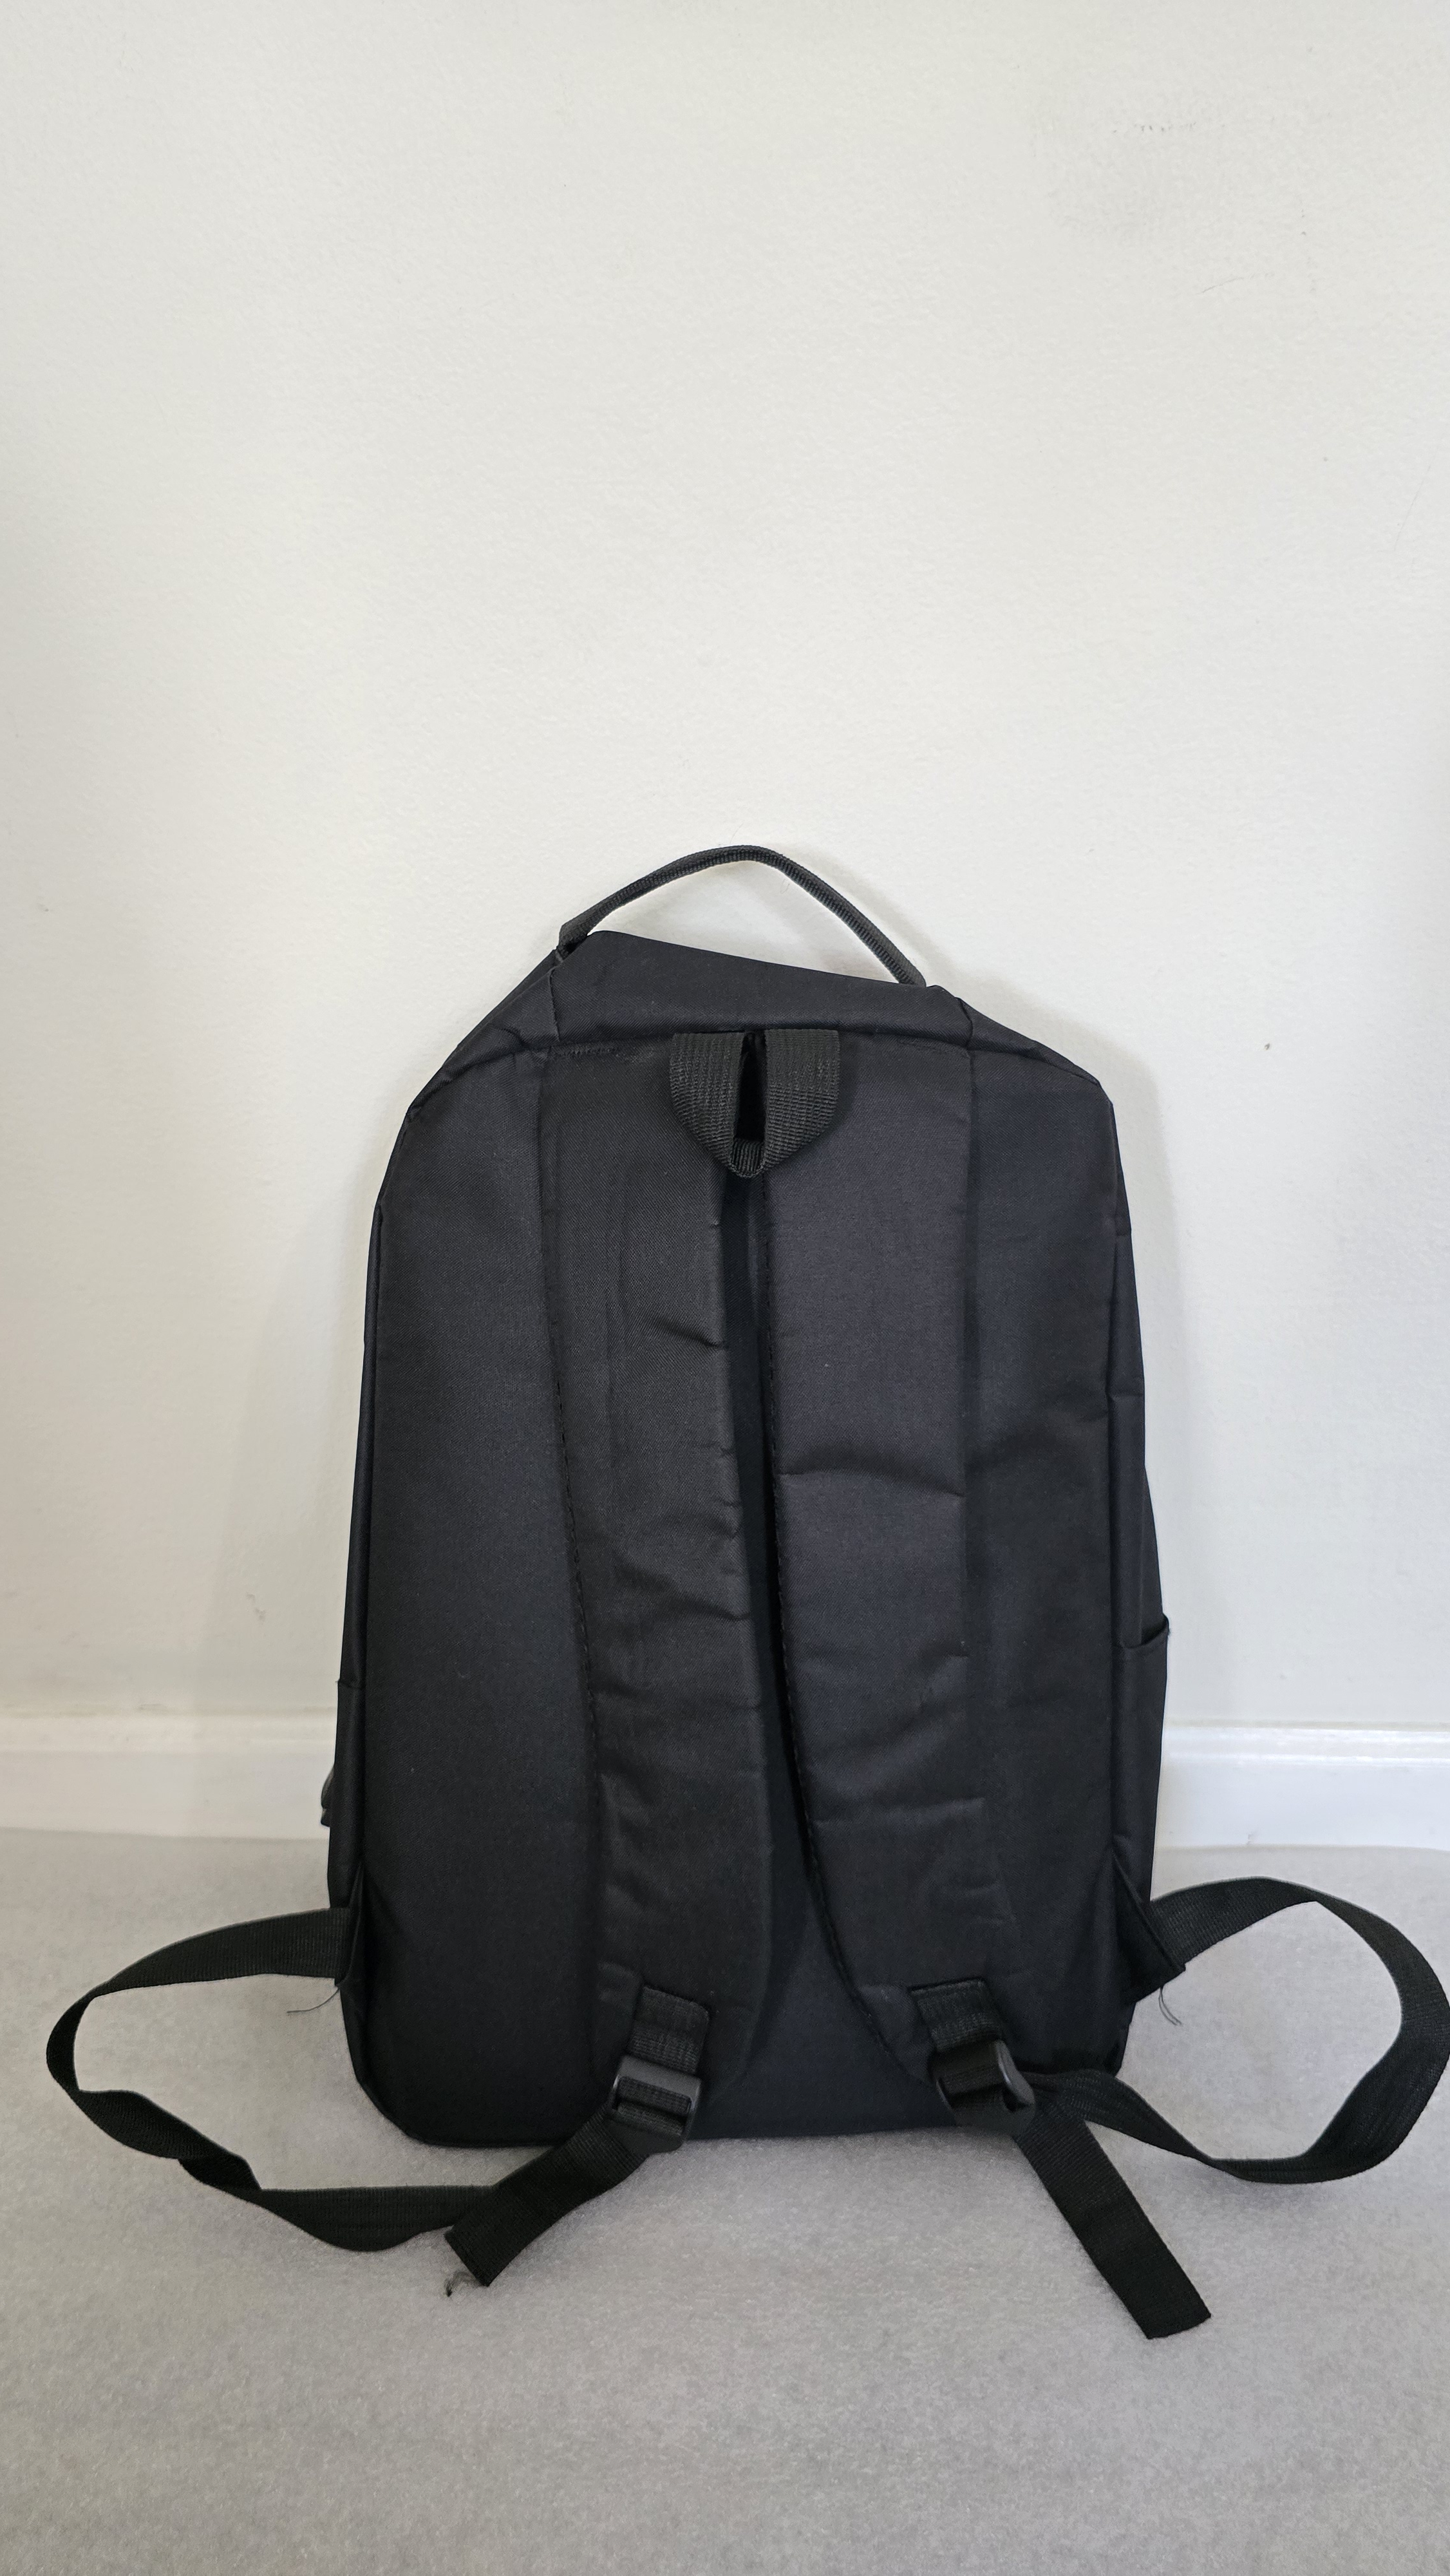bag: (274, 816, 1408, 2318)
